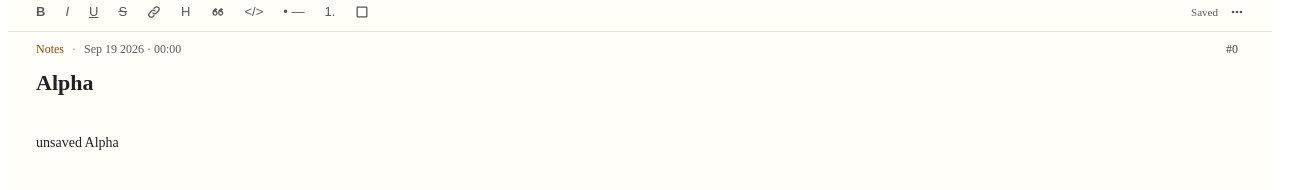
Test: switches editor and flushes the old account when UUIDs collide
The image size is (1292, 190).
(page scrolled)
Step 1. Clear the field with class "editor-body" → [77, 142], box [36, 135, 119, 150]
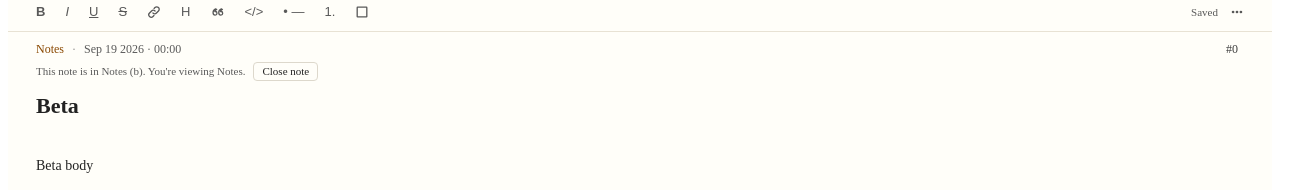
Expected: the field with class "editor-body" reads "Beta body", [36, 158, 93, 172]
